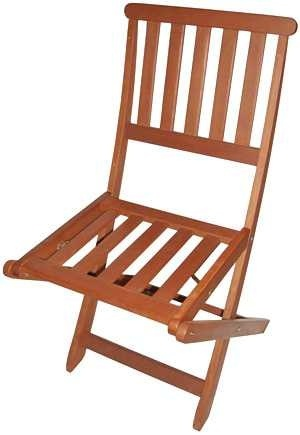obstacle: (1, 30, 298, 434)
